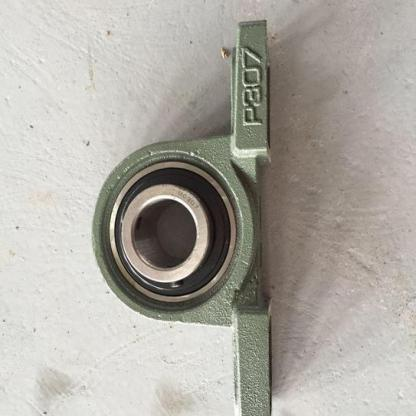FOD: (102, 160, 236, 313)
